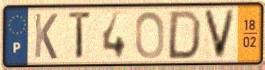4: (101, 10, 129, 62)
D: (165, 9, 204, 61)
K: (33, 12, 59, 62)
O: (134, 10, 166, 61)
T: (67, 9, 94, 62)
V: (201, 8, 238, 61)
